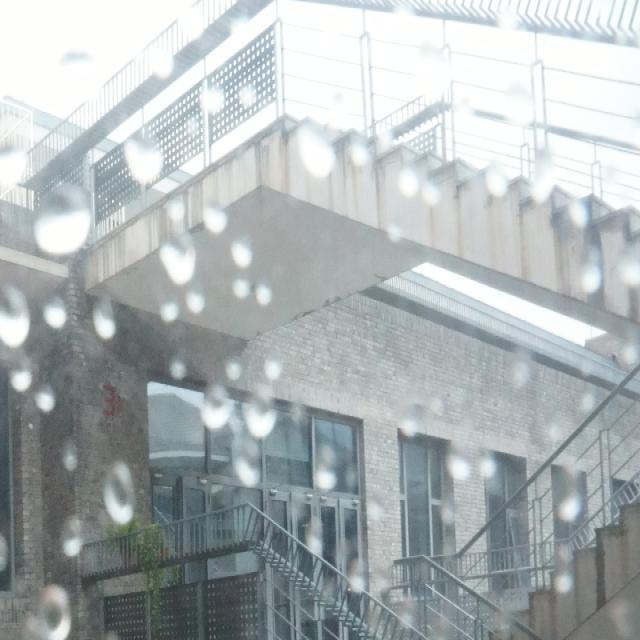raindrop: (13, 180, 91, 258), (86, 460, 138, 535), (154, 222, 193, 304), (122, 132, 166, 184), (416, 46, 458, 98), (297, 122, 333, 182), (492, 351, 532, 404), (57, 54, 99, 104), (0, 139, 30, 208), (506, 78, 541, 136), (83, 291, 119, 347), (0, 278, 27, 352), (33, 585, 69, 640), (48, 519, 90, 559), (240, 388, 278, 432), (568, 258, 600, 310), (470, 432, 500, 487), (134, 46, 177, 84), (202, 386, 230, 444), (232, 444, 265, 492), (442, 430, 475, 478), (528, 155, 557, 208), (172, 14, 208, 56), (39, 292, 73, 336), (344, 131, 371, 185), (313, 444, 341, 496), (544, 487, 580, 525), (242, 279, 281, 314), (539, 571, 577, 604), (5, 356, 34, 399), (196, 203, 230, 238), (428, 602, 462, 636), (615, 250, 640, 296), (390, 414, 423, 448), (384, 218, 407, 266), (493, 7, 519, 48), (486, 167, 514, 205), (621, 333, 640, 388), (572, 375, 598, 414), (185, 272, 209, 314), (218, 250, 254, 278), (568, 346, 592, 388), (422, 386, 448, 424), (31, 384, 58, 418), (390, 5, 416, 40), (163, 191, 184, 233), (400, 591, 422, 631), (226, 20, 254, 50), (58, 446, 84, 478), (196, 86, 222, 118), (363, 495, 389, 526), (396, 166, 416, 206), (172, 348, 190, 392), (344, 555, 366, 591), (303, 512, 323, 551), (436, 500, 458, 534), (439, 543, 461, 575), (571, 196, 595, 225), (550, 547, 574, 574), (178, 118, 200, 146), (156, 294, 176, 324), (260, 351, 283, 376), (232, 83, 256, 106), (290, 394, 304, 432), (220, 356, 240, 382), (380, 124, 393, 164), (418, 184, 436, 210), (235, 280, 252, 306), (339, 474, 357, 494), (0, 536, 9, 574)
